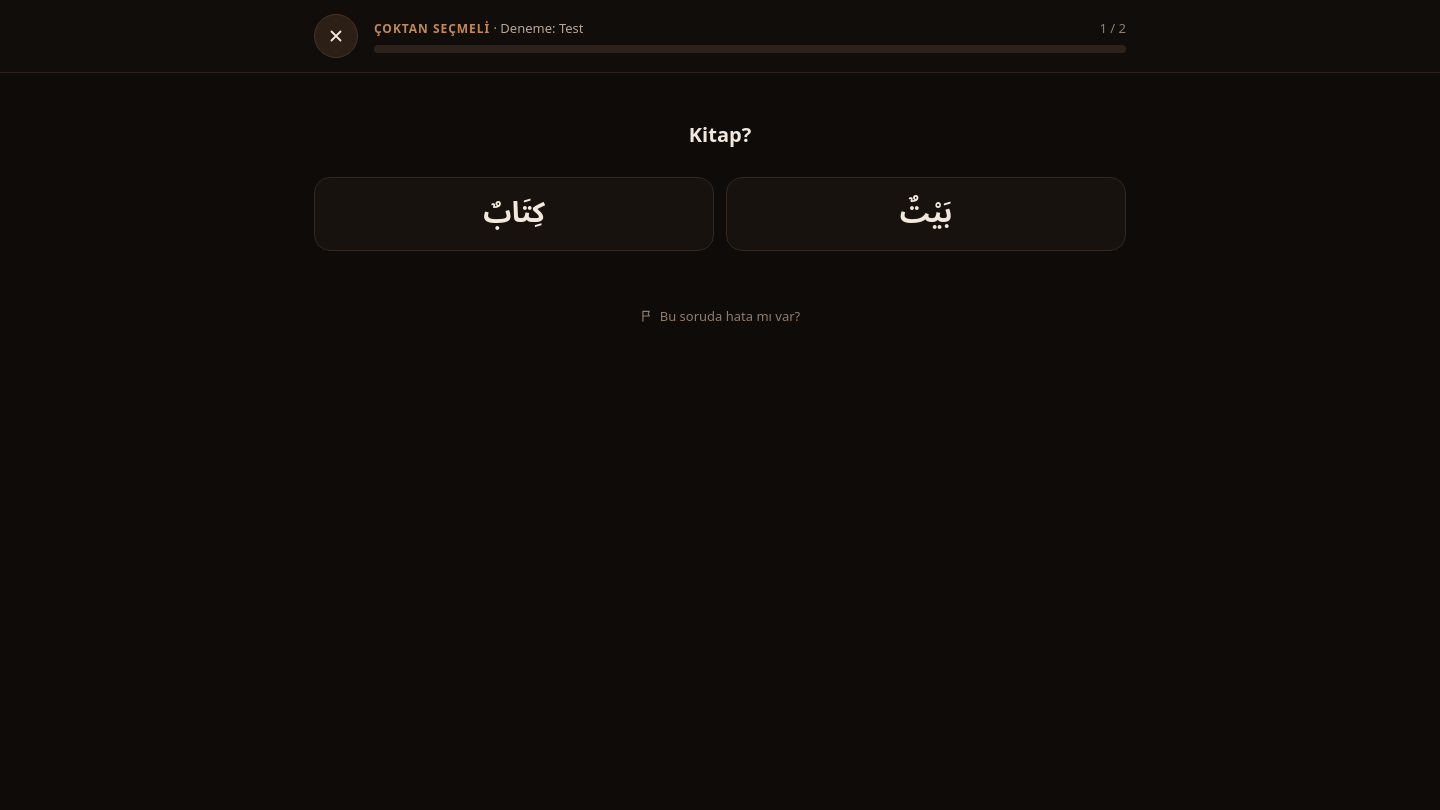
Test: Çoktan seçmeli etkinlik › tümü doğruysa %100 ve tamamlandı olarak kaydeder
Click the 2nd button at (514, 214), box [314, 177, 714, 251]
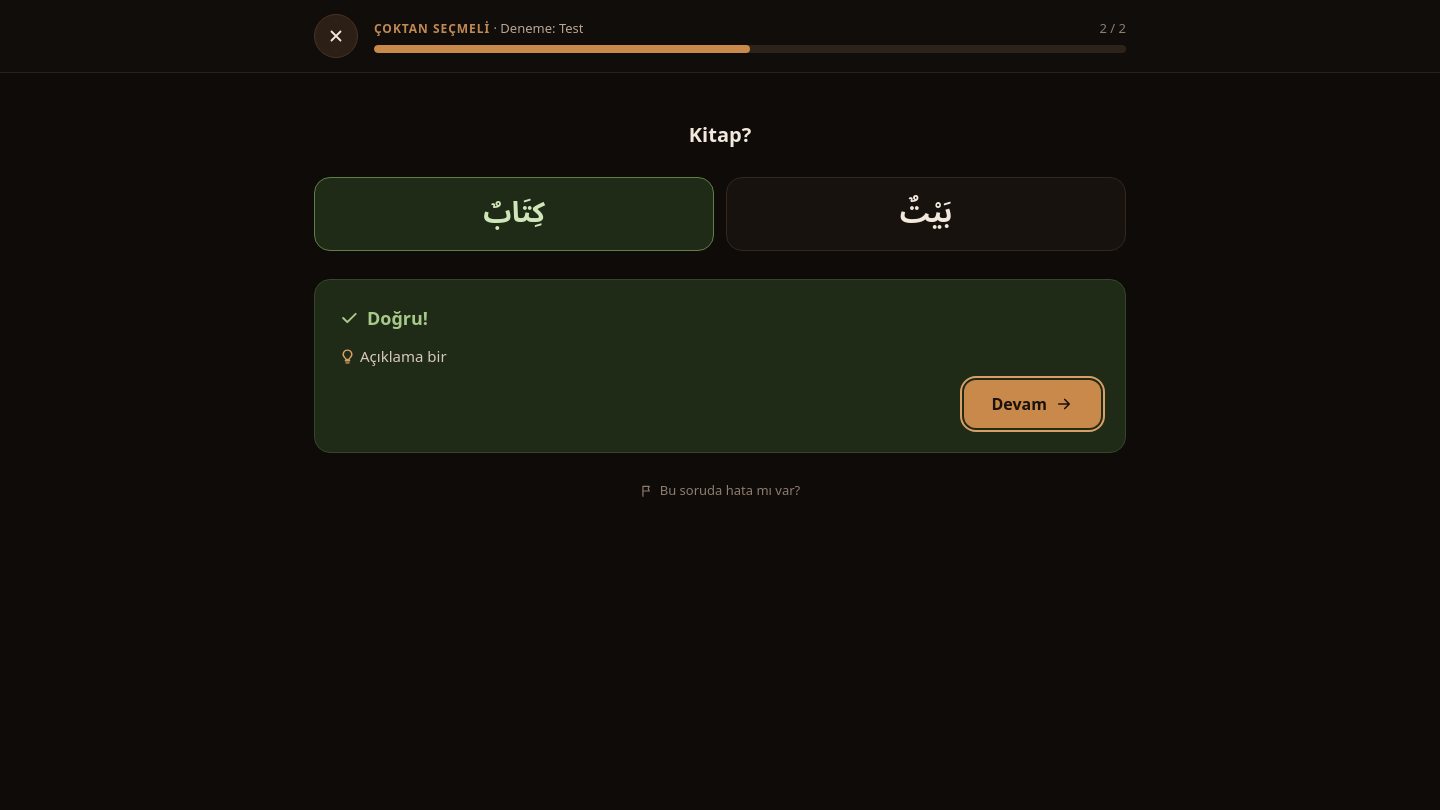
Click the button "Devam" at (1032, 404), box [964, 380, 1101, 428]
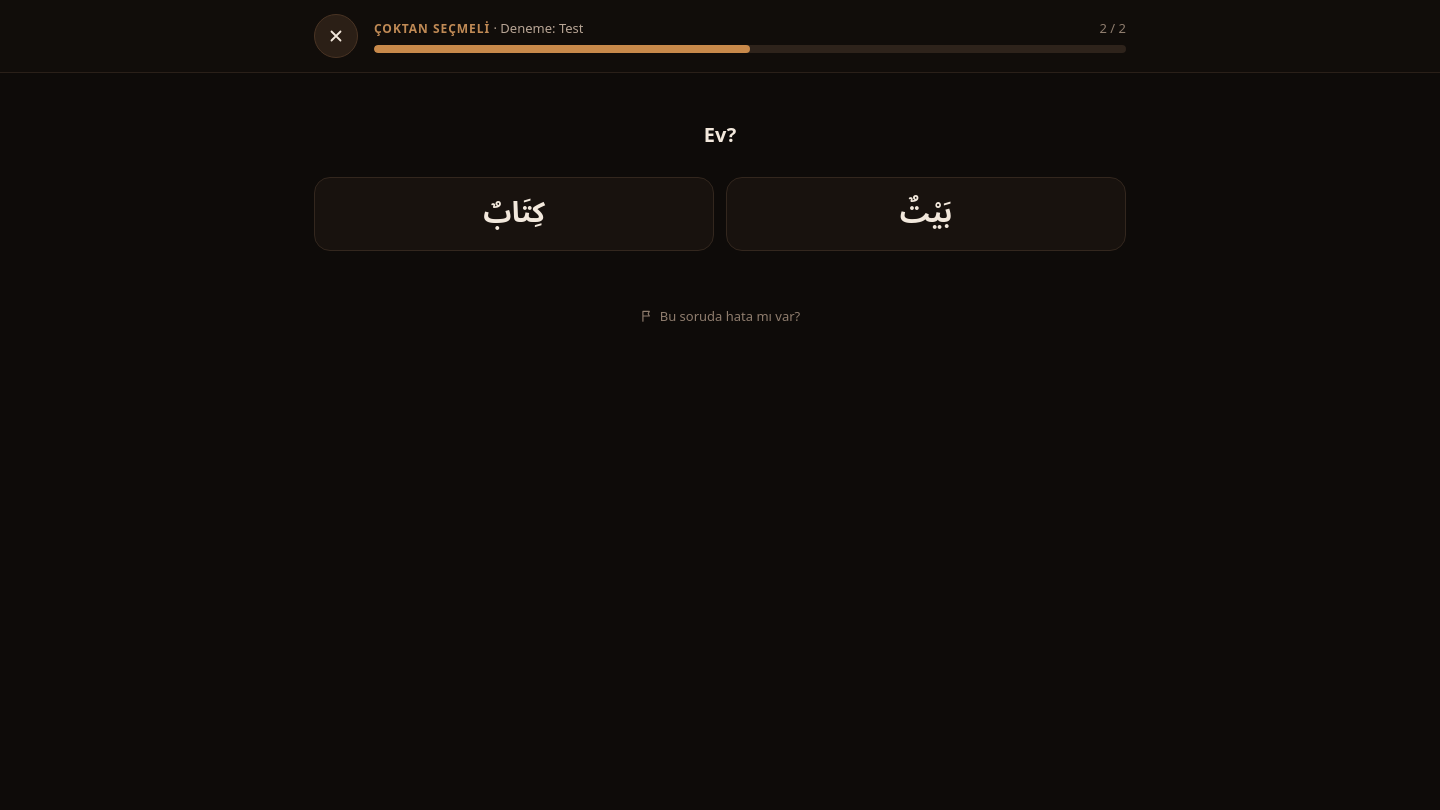
Click the 3rd button at (926, 214), box [726, 177, 1126, 251]
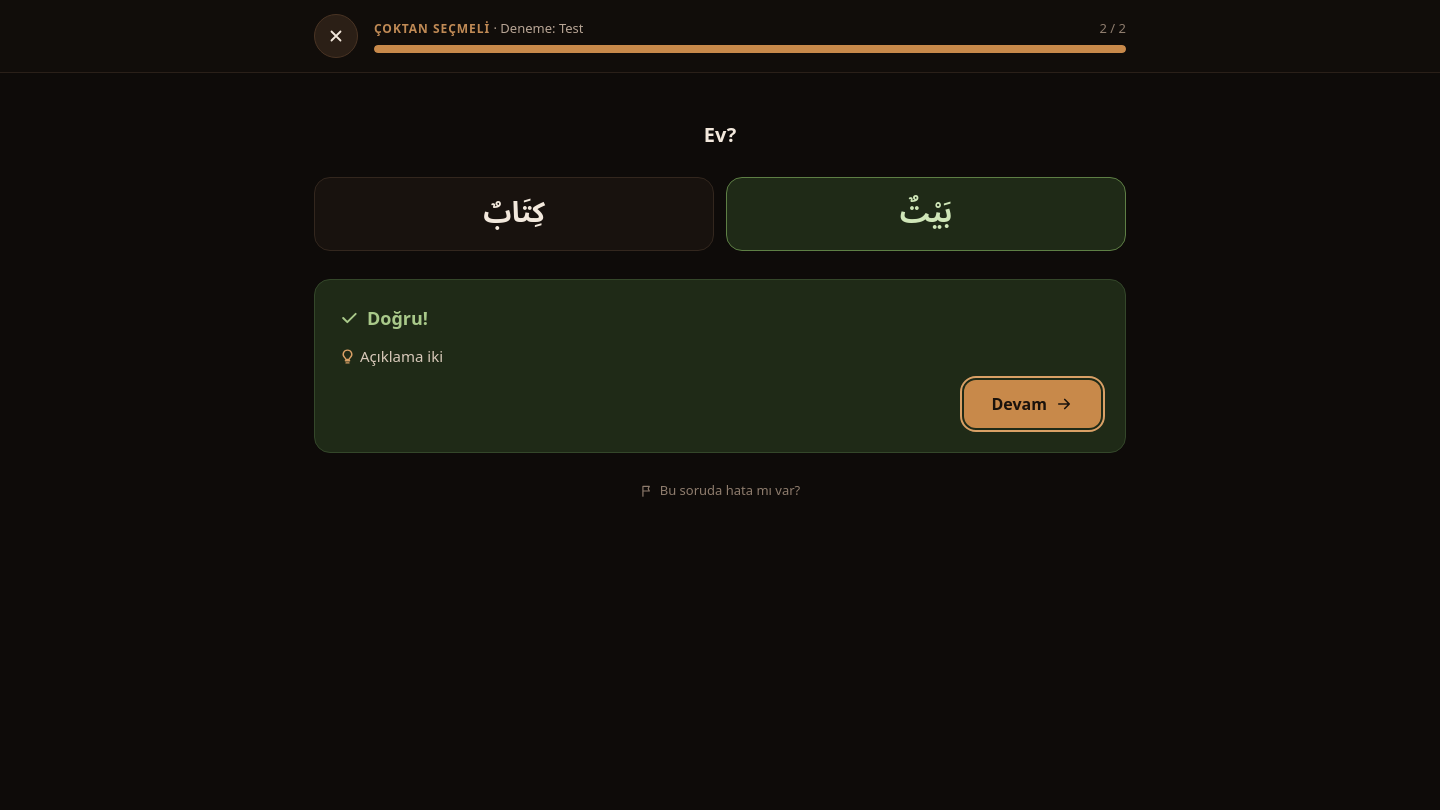
Click the button "Devam" at (1032, 404), box [964, 380, 1101, 428]
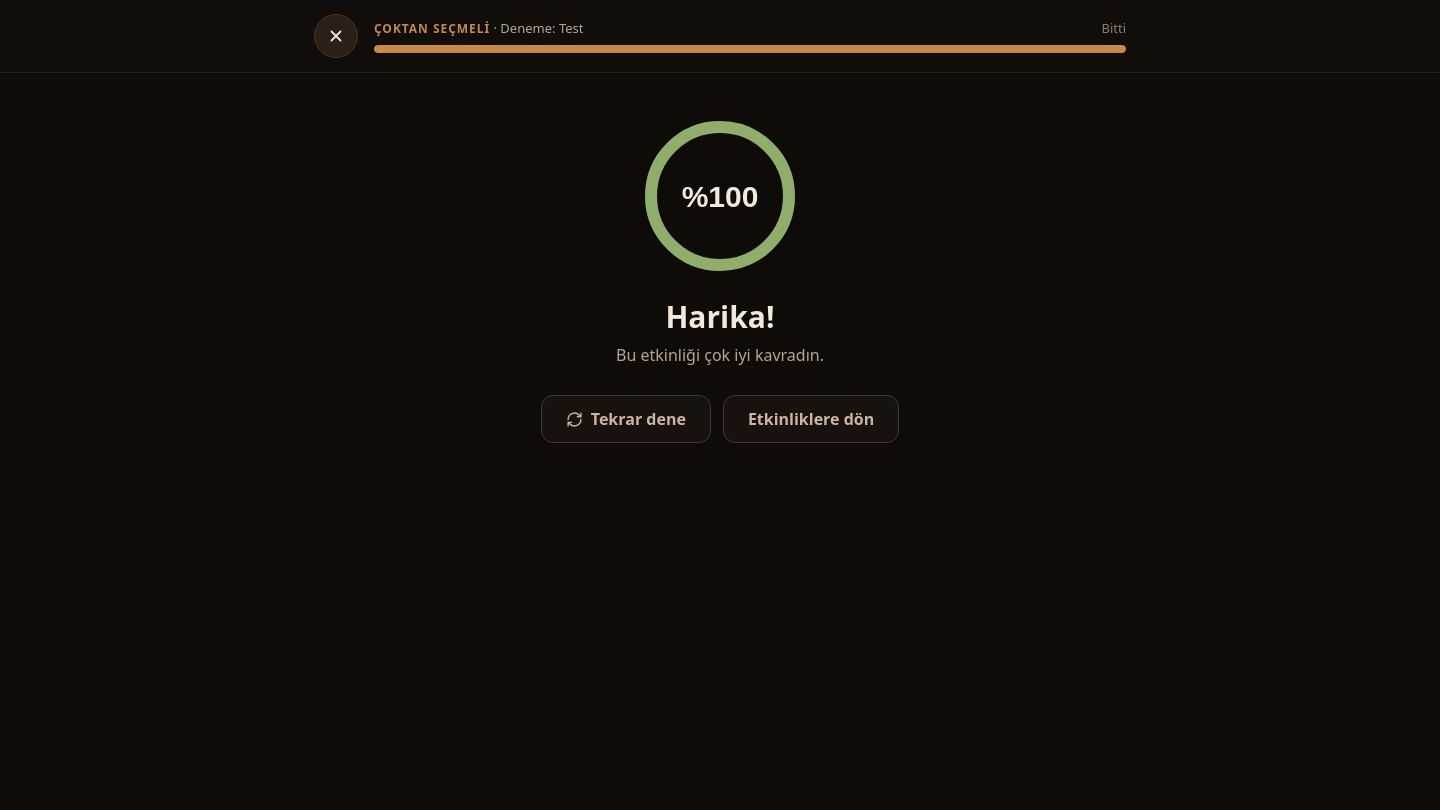
Result: the heading "Harika!" is shown at [665, 296, 774, 337]
